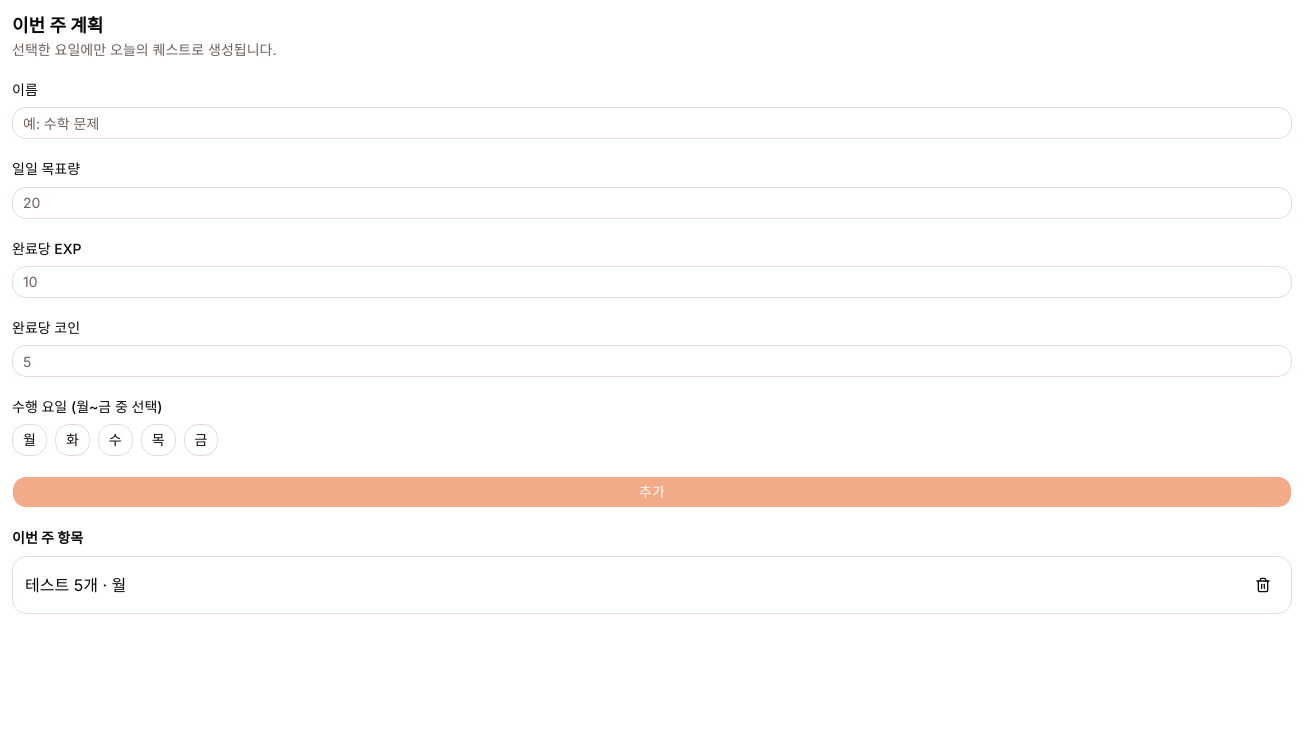
Test: PlanScreen — 이번 주 계획 › [S2-3] 항목을 삭제하면 목록에서 사라진다
Check: the text "테스트 5개 · 월" is shown, box left=25, top=575, right=126, bottom=595
Click the button named "테스트 삭제": coordinates (1263, 585) left=1247, top=569, right=1279, bottom=601
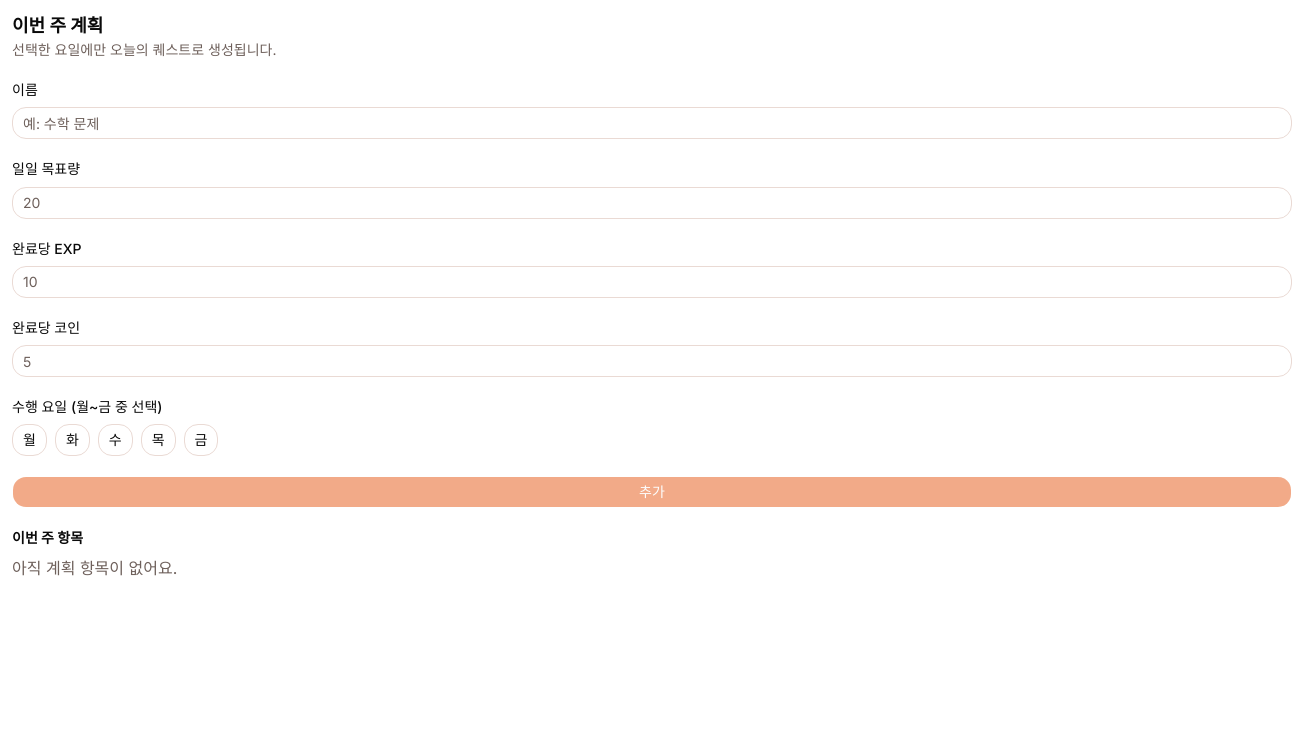
Check: the text "테스트 5개 · 월" is gone
